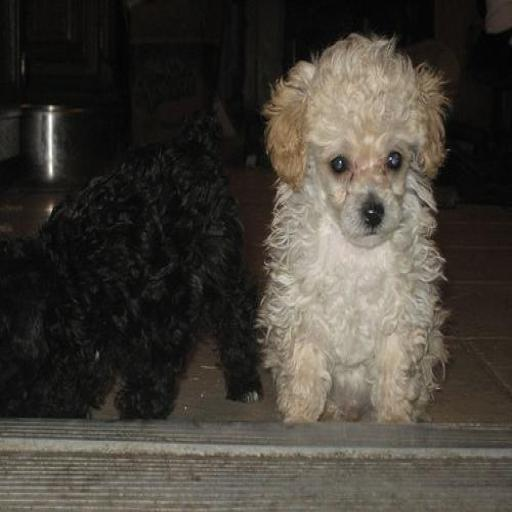dog_face: (270, 40, 444, 258)
